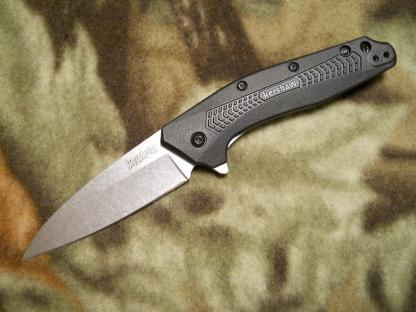knife: (15, 120, 199, 266)
